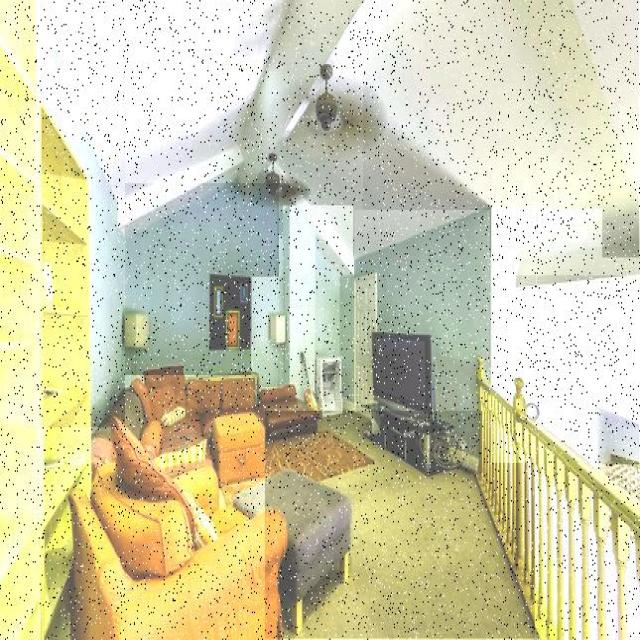Wall: (285, 0, 640, 257), (45, 0, 363, 235), (265, 412, 535, 639), (40, 3, 125, 427), (355, 210, 490, 445), (124, 184, 279, 375), (491, 210, 602, 463), (516, 276, 640, 423), (283, 206, 353, 399), (251, 278, 285, 387), (596, 407, 640, 464), (316, 251, 340, 354)
